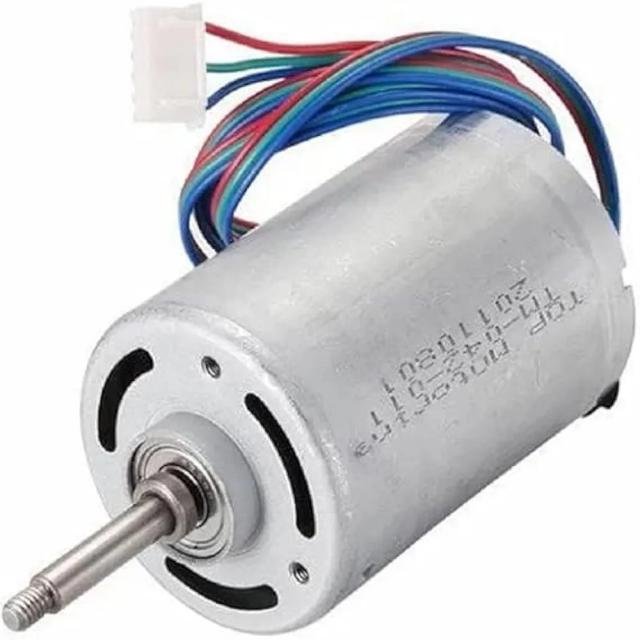motor: (27, 12, 621, 628)
